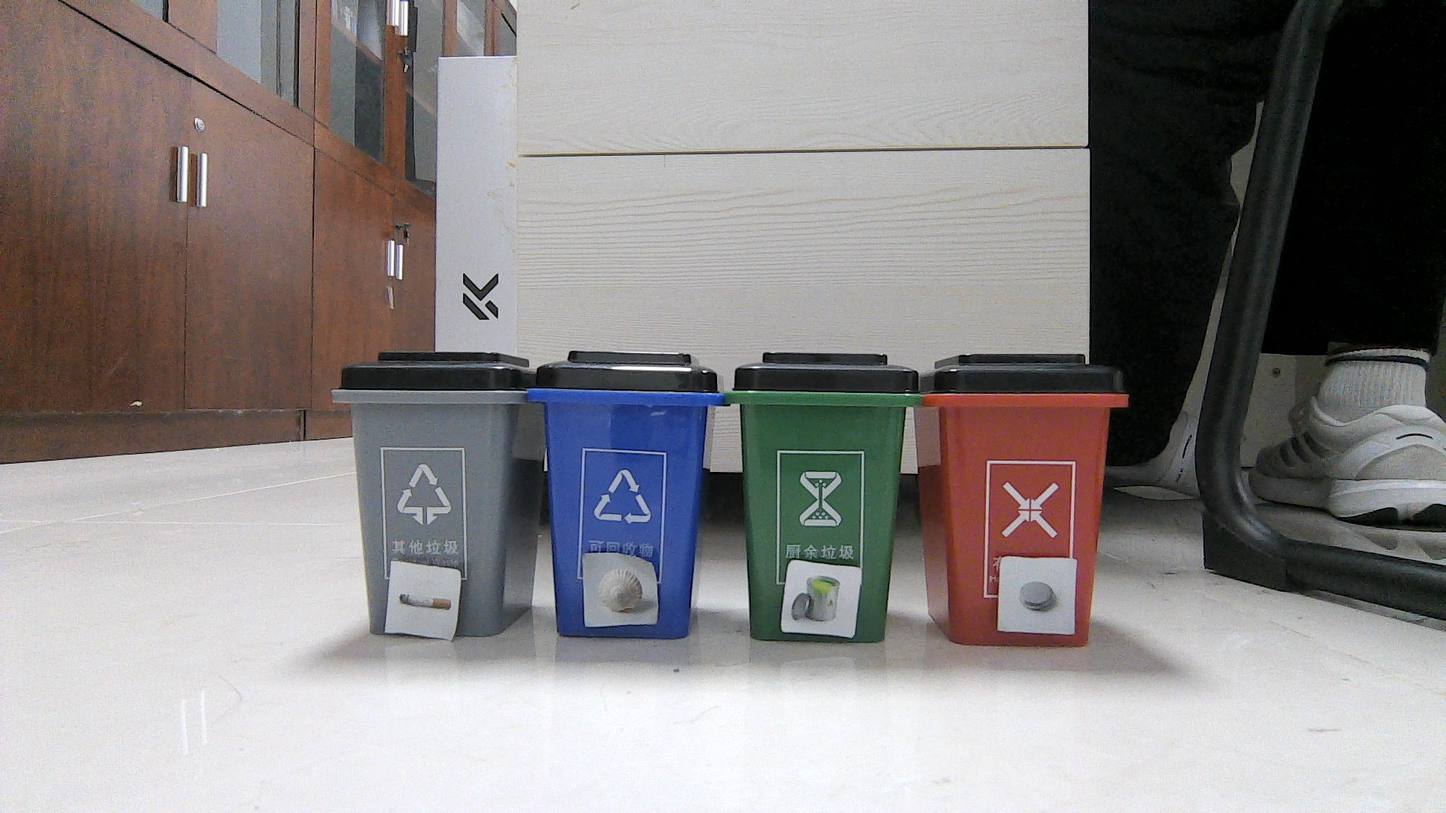hazardous_trash: (1001, 561, 1069, 630), (787, 564, 845, 630)
other_trash: (392, 564, 457, 635), (589, 560, 648, 624)
